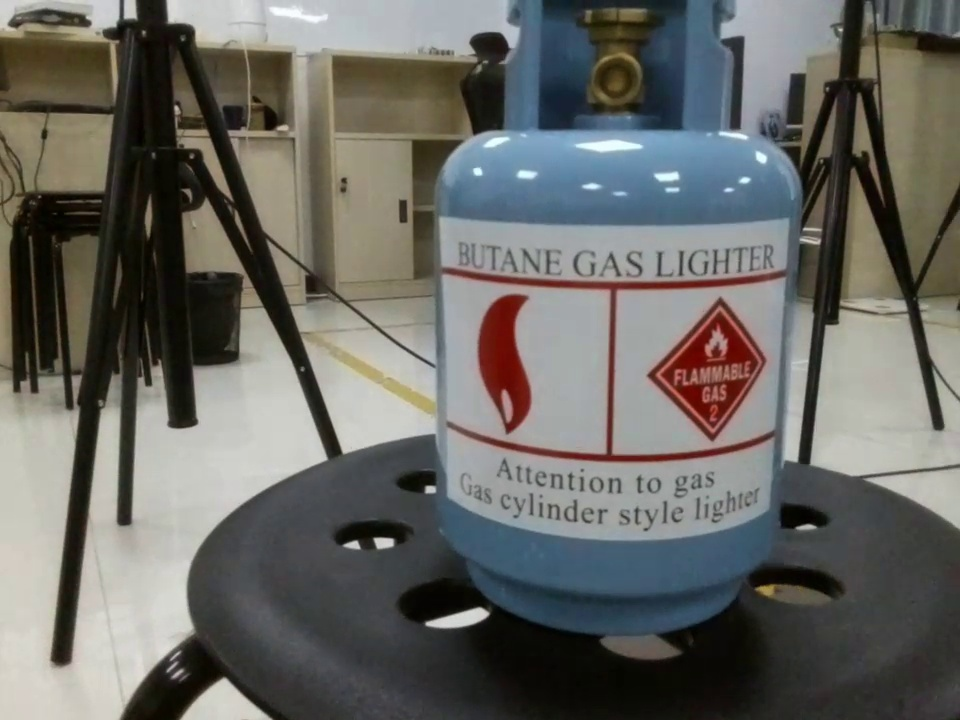gas tank: (418, 1, 804, 630)
